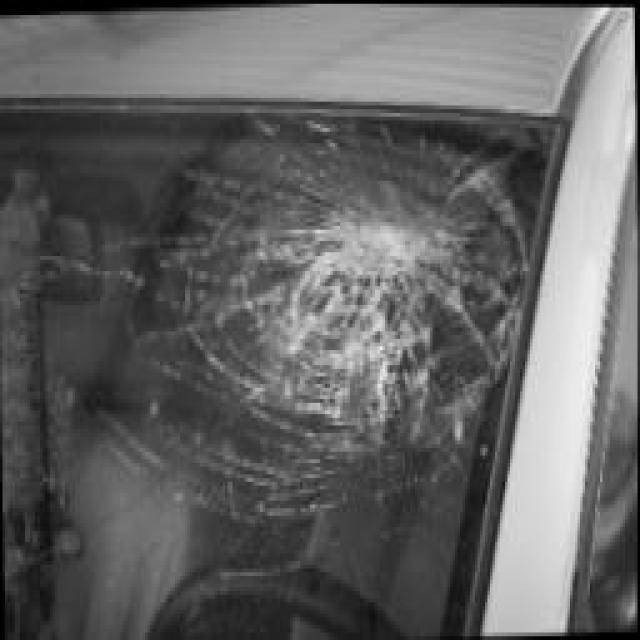Windshield: (0, 83, 482, 640)
